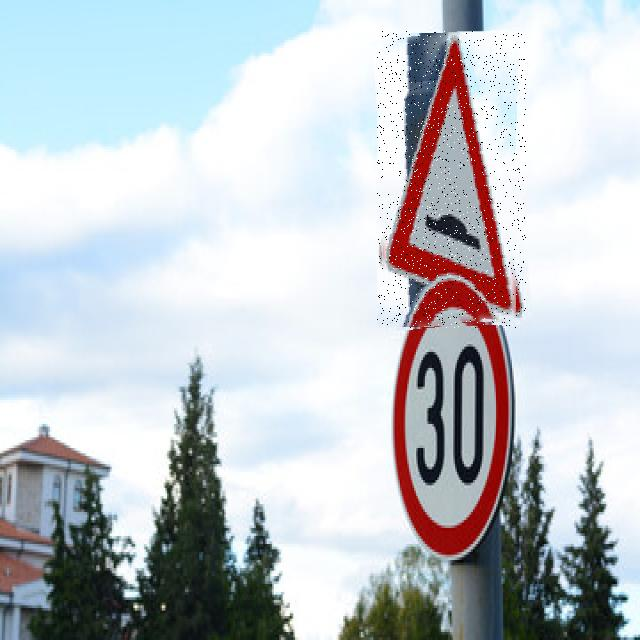hump: (377, 31, 526, 328)
